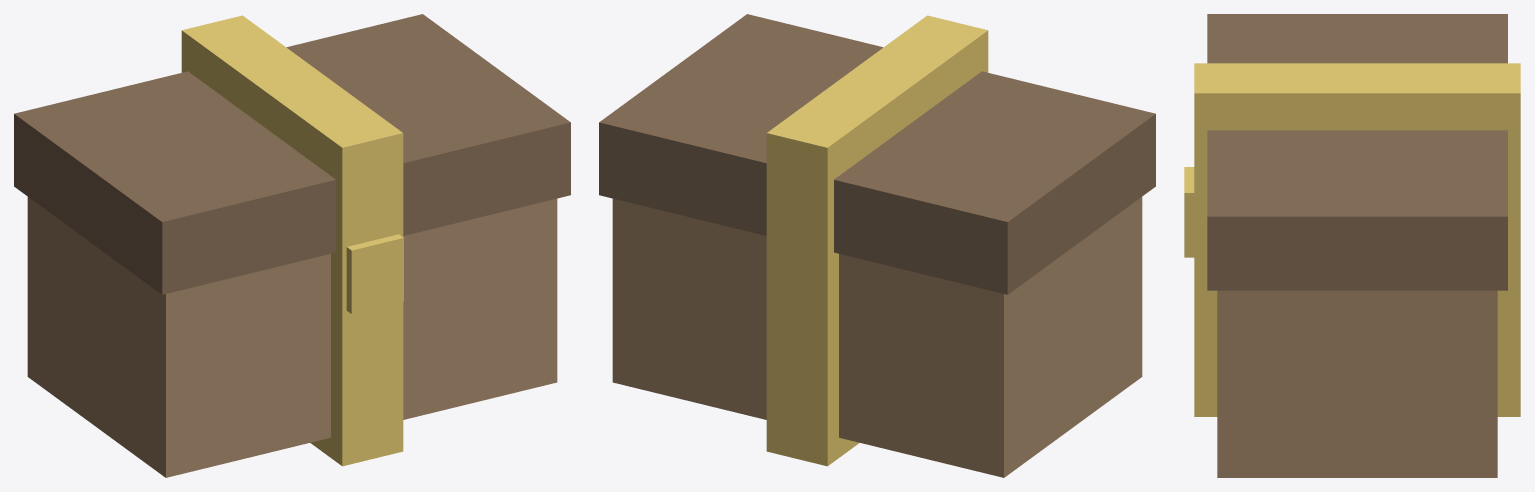
Rendered from chest.glb.
3 views of the same model, side by side, from view 1: azimuth 30°, elevation 25°; view 2: azimuth 150°, elevation 25°; view 3: azimuth 270°, elevation 25° (orthographic).
Parts seen in each view (by area): view 1: chest_00, chest_01, chest_02, chest_03; view 2: chest_00, chest_01, chest_02; view 3: chest_01, chest_00, chest_02, chest_03.
Part boxes in pixels (x1,y1,x2,y2): chest_00: (27, 197, 557, 477); chest_01: (14, 14, 570, 294); chest_02: (181, 15, 403, 466); chest_03: (346, 234, 403, 313); chest_00: (612, 197, 1142, 477); chest_01: (599, 14, 1155, 294); chest_02: (766, 15, 988, 466); chest_01: (1207, 14, 1507, 290); chest_00: (1217, 290, 1497, 477); chest_02: (1194, 63, 1520, 416); chest_03: (1184, 167, 1194, 257).
Bounding box in the file's own units: 0.94 × 0.7 × 0.66.
